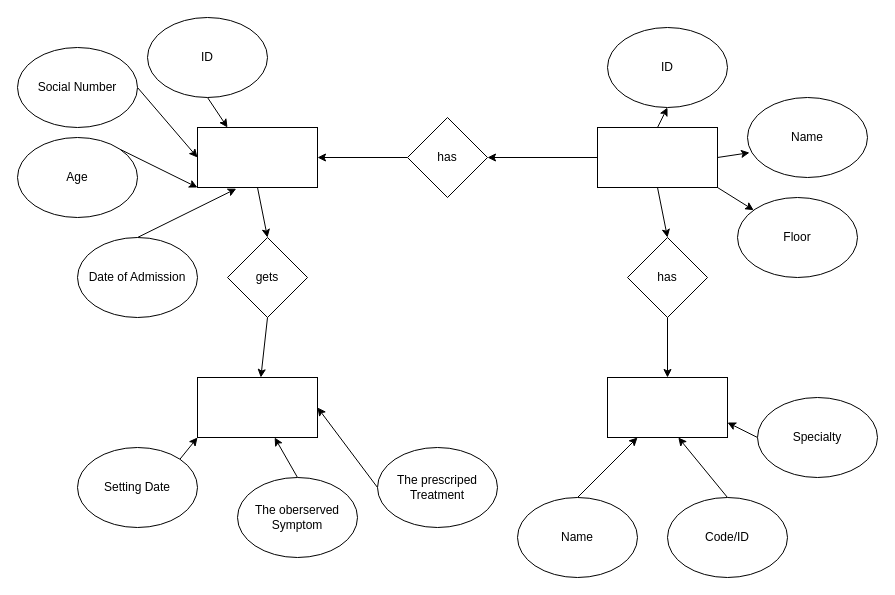
Some shapes in this 895 by 595 pixel diagram are drawn without their labels. The shapes that lost their labels are listed below. From the top down, each one's centre as x and y in pixels, then its label:
At [257,157]: "Patient".
At [657,157]: "Unit".
At [257,407]: "Intervention".
At [667,407]: "Doctor in charge".
